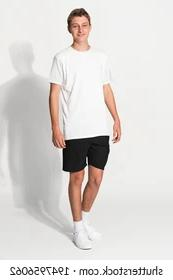Shorts: (60, 134, 111, 172)
short sleeve shirt: (48, 45, 113, 142)
